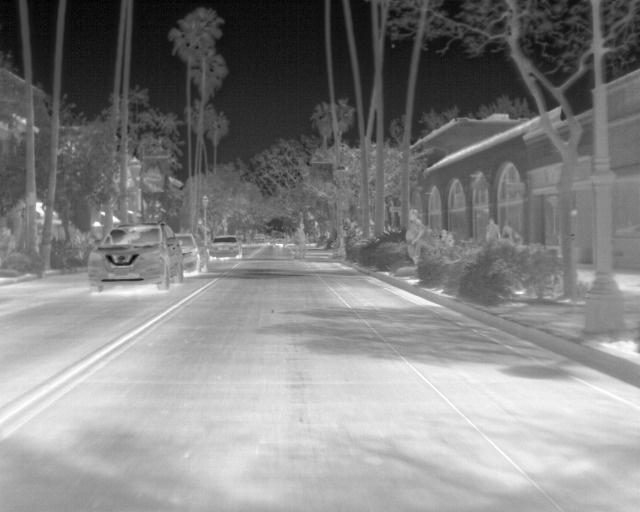bicycle: (88, 221, 183, 296), (171, 232, 208, 276), (208, 235, 243, 262)
empty: (402, 207, 424, 268), (484, 217, 502, 241)
